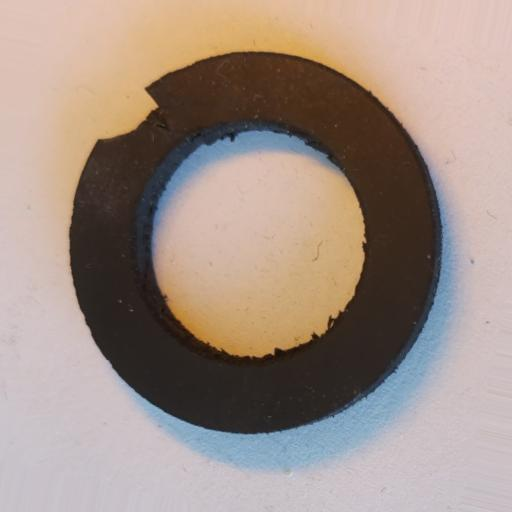defect: (99, 87, 161, 142)
